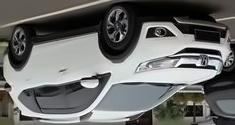Car hood: (120, 68, 223, 84)
Fender - -F-L-: (95, 22, 148, 73)
Fender - -R-L-: (12, 41, 36, 91)
Front bumper: (133, 14, 235, 51)
Headlight - -L-: (134, 56, 182, 74)
Headlight - -R-: (215, 58, 227, 76)
Passenger-s door - -F-L-: (57, 36, 106, 119)
Passenger-s door - -R-L-: (20, 43, 57, 121)
Rear bumper: (1, 43, 15, 58)
Rear light - -L-: (4, 82, 15, 94)
Side mirror - -L-: (31, 23, 105, 50), (76, 74, 103, 92)
